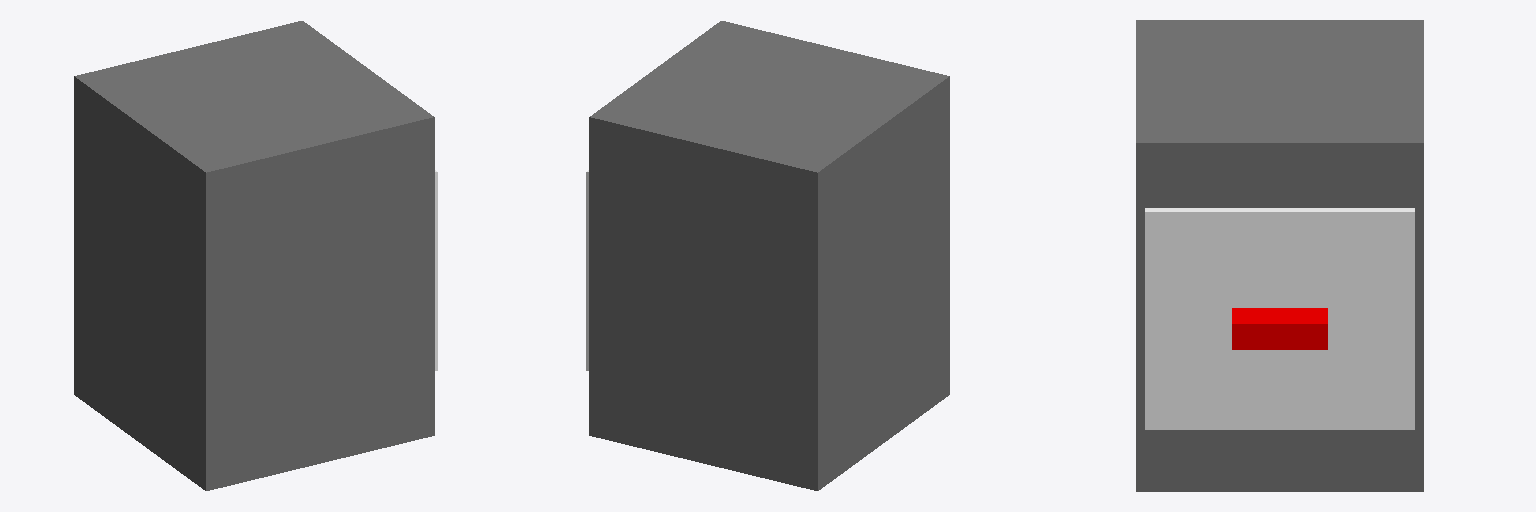
URDF robot description (drawer):
<?xml version="1.0"?>
<robot name="drawer">

  <link name="cabinet">
    <visual>
      <geometry>
        <box size="0.3 0.3 0.4"/>
      </geometry>
      <material name="gray"/>
    </visual>
    <collision>
      <geometry>
        <box size="0.3 0.3 0.4"/>
      </geometry>
    </collision>
    <inertial>
      <mass value="1"/>
      <inertia ixx="1" ixy="0.0" ixz="0.0" iyy="1" iyz="0.0" izz="1"/>
    </inertial>
  </link>

  <link name="drawer">
    <visual>
      <geometry>
        <box size="0.3 0.28 0.25"/>
      </geometry>
      <material name="white"/>
    </visual>
    <collision>
      <geometry>
        <box size="0.3 0.28 0.25"/>
      </geometry>
    </collision>
    <inertial>
      <mass value="0.1"/>
      <inertia ixx="0.001" ixy="0.0" ixz="0.0" iyy="0.001" iyz="0.0" izz="0.001"/>
    </inertial>
  </link>

  <link name="drawer_handle">
    <contact>
       <lateral_friction value="2.0"/>
       <spinning_friction value="0.01"/>
    </contact>
    <visual>
      <geometry>
        <box size="0.08 0.1 0.03"/>
      </geometry>
      <material name="red"/>
    </visual>
    <collision>
      <geometry>
        <box size="0.08 0.1 0.03"/>
      </geometry>
    </collision>
    <inertial>
      <mass value="0.1"/>
      <inertia ixx="0.001" ixy="0.0" ixz="0.0" iyy="0.001" iyz="0.0" izz="0.001"/>
    </inertial>
  </link>

  <joint name="slider" type="prismatic">
    <axis xyz="1 0 0"/>
    <limit effort="1000.0" lower="0" upper="0.2" velocity="40"/>
    <parent link="cabinet"/>
    <child link="drawer"/>
    <dynamics damping="0.01" friction="0.01"/>
    <origin xyz="0.01 0 0"/>
  </joint>

  <joint name="handle" type="fixed">
    <parent link="drawer"/>
    <child link="drawer_handle"/>
    <origin xyz="0.15 0 0"/>
  </joint>

  <material name="gray">
    <color rgba="0.5 0.5 0.5 1"/>
  </material>

  <material name="white">
    <color rgba="1 1 1 1"/>
  </material>

  <material name="red">
    <color rgba="1 0 0 1"/>
  </material>

</robot>

--- What the picture shows (computed from the rendered views, not written in the file) ---
The picture shows the robot from 3 angles, left to right: view 1: azimuth 30°, elevation 25°; view 2: azimuth 150°, elevation 25°; view 3: azimuth 270°, elevation 25°; orthographic projection.
Model drawer with 3 links and 2 joints (1 prismatic, 1 fixed), rooted at cabinet, posed all joints at 0.
Links seen in each view (by area): view 1: cabinet, drawer; view 2: cabinet, drawer; view 3: cabinet, drawer, drawer_handle.
Link boxes in pixels (left/top/right/bottom): cabinet: left=74, top=21, right=434, bottom=490; drawer: left=435, top=170, right=437, bottom=370; cabinet: left=589, top=21, right=949, bottom=490; drawer: left=586, top=170, right=588, bottom=370; cabinet: left=1136, top=20, right=1423, bottom=491; drawer: left=1145, top=208, right=1414, bottom=429; drawer_handle: left=1232, top=308, right=1327, bottom=349.
Bounding box of the posed robot: 0.35 × 0.3 × 0.4 m (x, y, z).
Geometry: primitives only (box / cylinder / sphere), no mesh files.